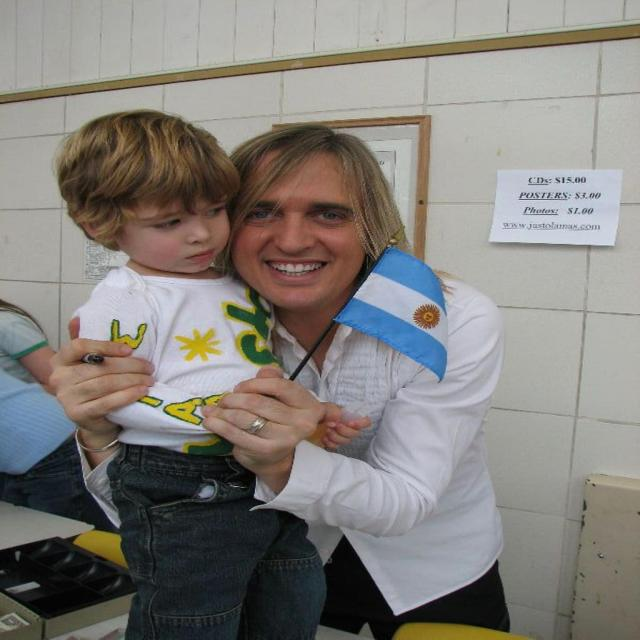Face: (235, 136, 394, 314), (106, 171, 242, 298)
